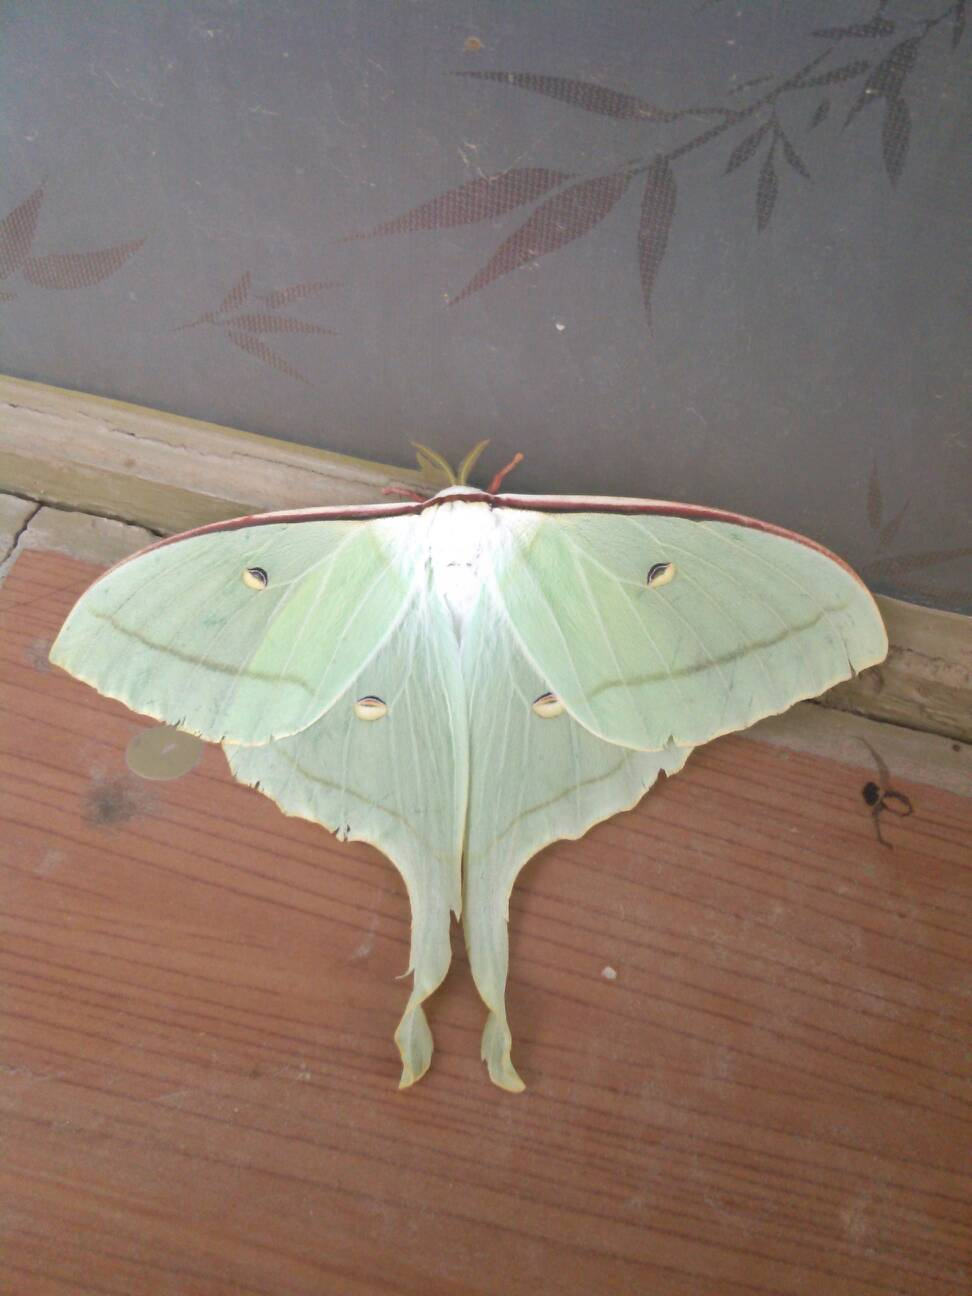feie: (55, 468, 893, 1105)
